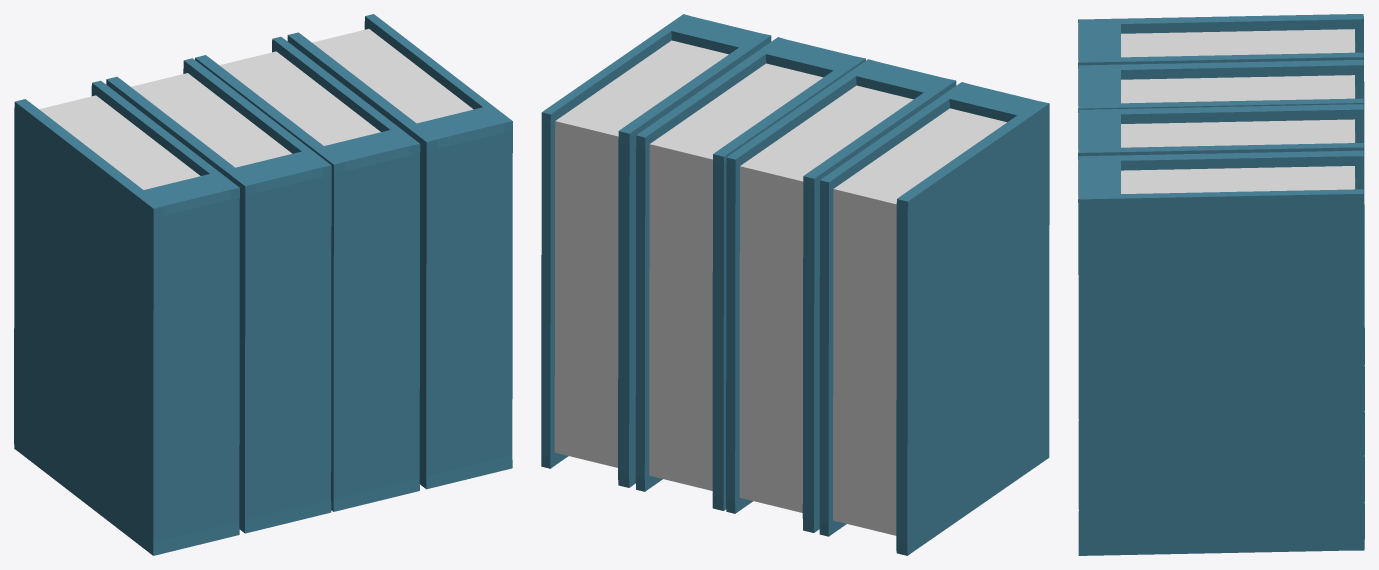
Rendered from Book_Lineup.fbx.
3 views of the same model, side by side, from view 1: azimuth 30°, elevation 25°; view 2: azimuth 150°, elevation 25°; view 3: azimuth 270°, elevation 25° (orthographic). The views are drawn at different scales.
Parts seen in each view (by area): view 1: group52_pasted__pCube5; view 2: group52_pasted__pCube5; view 3: group52_pasted__pCube5.
Boxes of the visible parts, bbox=[...] form: group52_pasted__pCube5: bbox=[14, 14, 512, 555]; group52_pasted__pCube5: bbox=[541, 14, 1049, 555]; group52_pasted__pCube5: bbox=[1078, 14, 1364, 555].
Size of the model in its own units: 0.4263 by 0.3999 by 0.2871.
